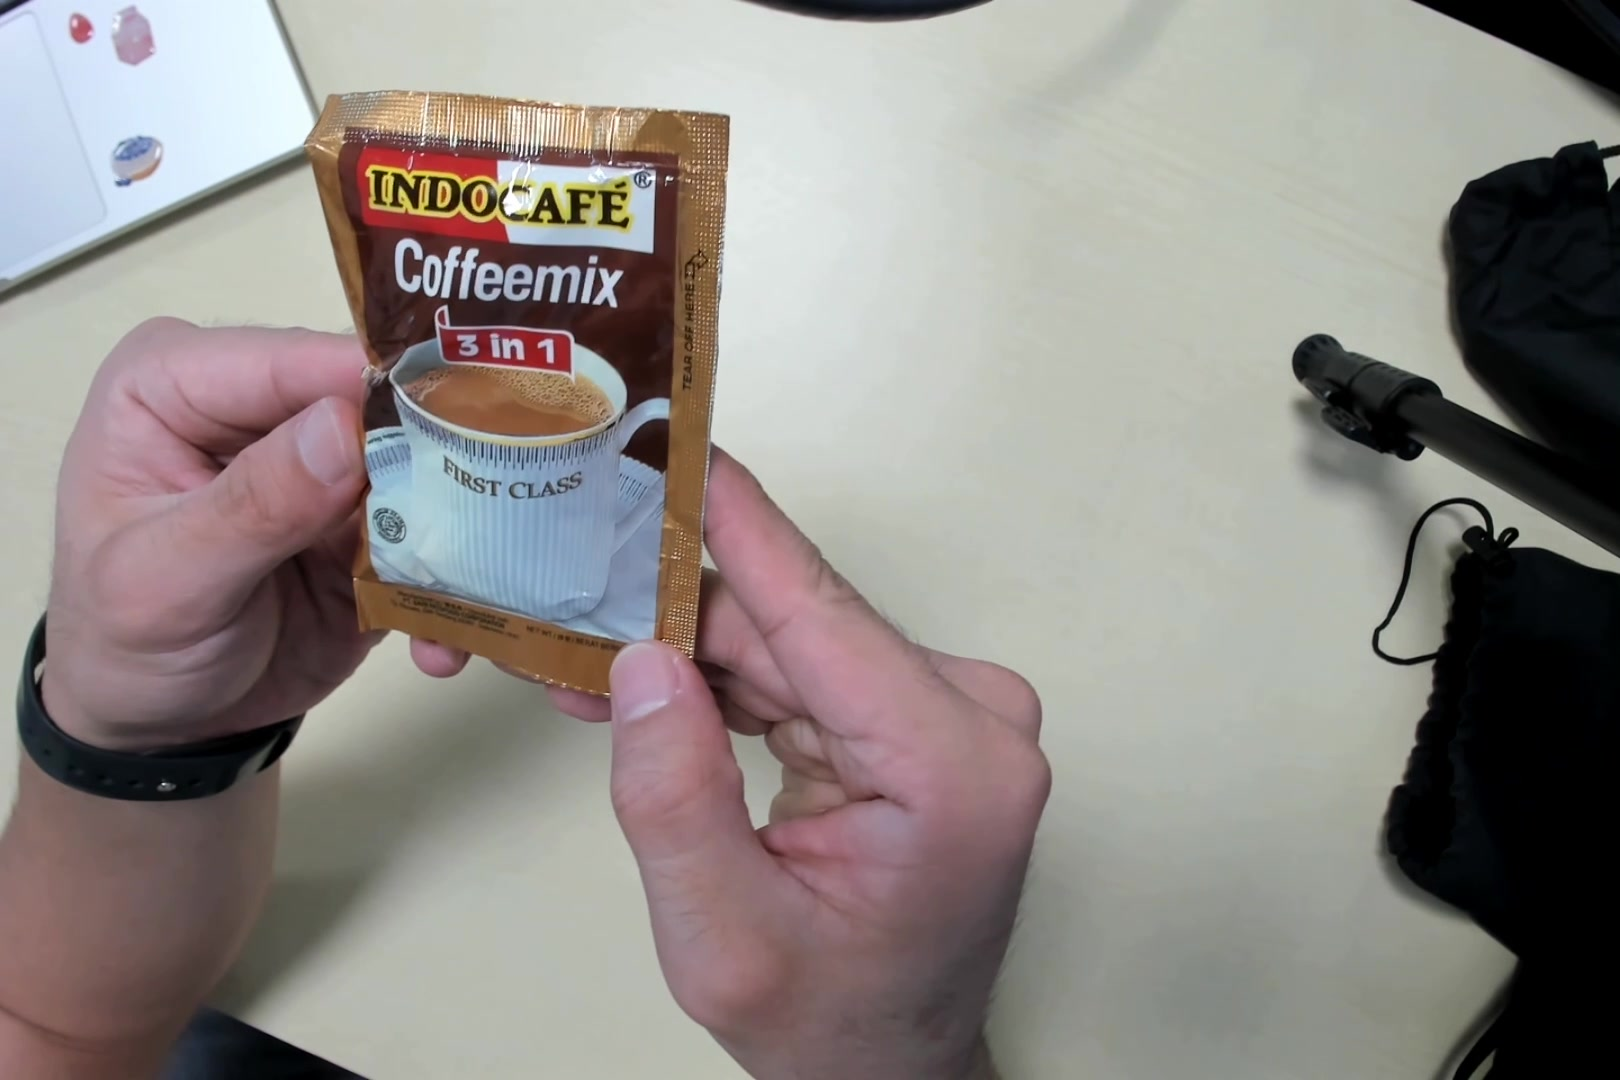Coffee(Powder)_0-99g_NonHalal_NonHealthy: (312, 78, 709, 708)
